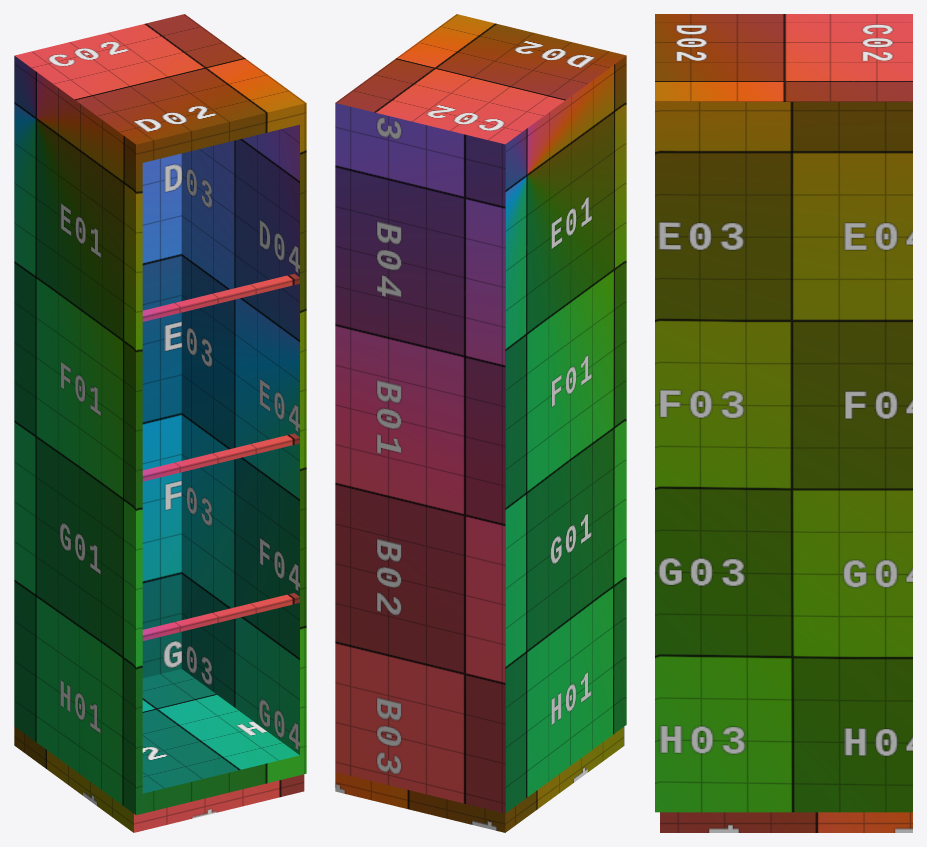
The model's file is Lockerbb_low.fbx.
3 renders of one model, left to right at view 1: azimuth 30°, elevation 25°; view 2: azimuth 150°, elevation 25°; view 3: azimuth 270°, elevation 25°, orthographic. The views are drawn at different scales.
Visible parts, largest first — view 1: Lockerb_low; view 2: Lockerb_low; view 3: Lockerb_low.
Part boxes in pixels (bbox=[...]): Lockerb_low: bbox=[14, 14, 306, 832]; Lockerb_low: bbox=[335, 14, 626, 832]; Lockerb_low: bbox=[655, 14, 912, 832].
Size of the model in its own units: 41.23 by 160 by 50.99.
